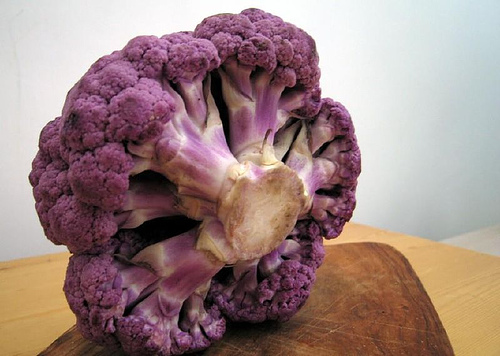cauliflower: (25, 5, 364, 355)
